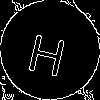H: (25, 25, 71, 77)
